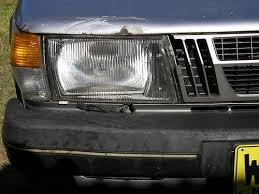Broken-glass: (57, 49, 167, 90)
Scratch: (60, 16, 120, 31)
